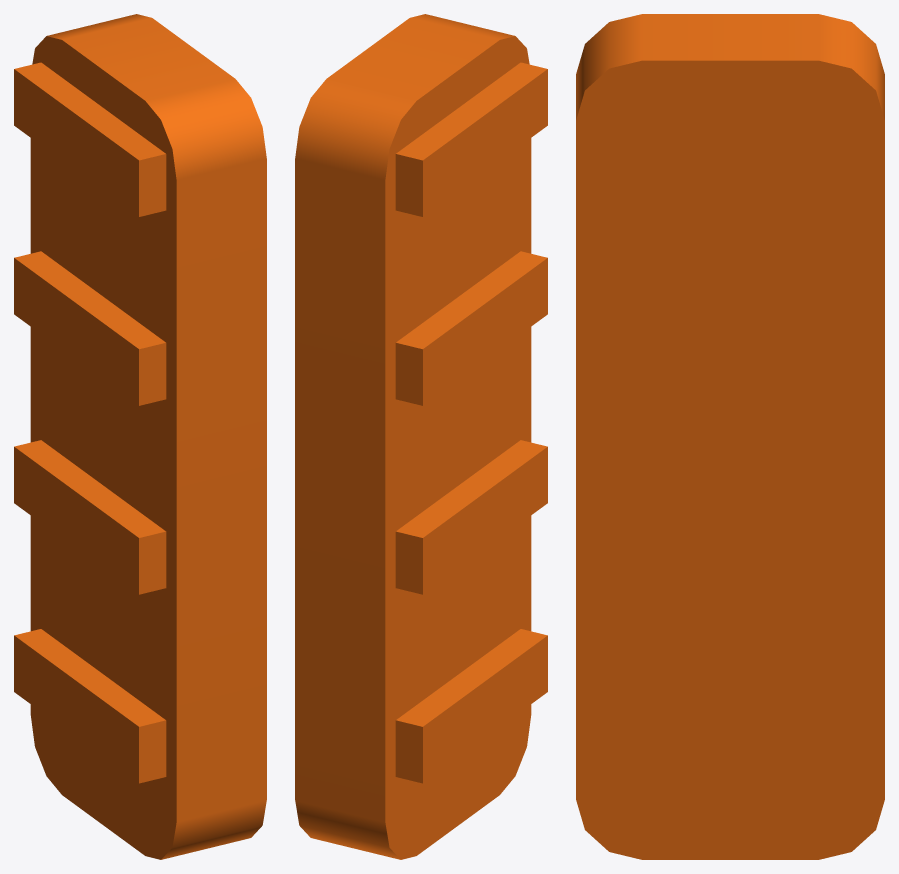
Rendered from WalkieTalkie_PTT.obj.
The picture shows the model from 3 angles, left to right: view 1: azimuth 30°, elevation 25°; view 2: azimuth 150°, elevation 25°; view 3: azimuth 270°, elevation 25°; orthographic projection. The views are drawn at different scales.
Parts seen in each view (by area): view 1: Walkie_PTT; view 2: Walkie_PTT; view 3: Walkie_PTT.
Part boxes in pixels (x1=…): Walkie_PTT: x1=14, y1=14, x2=266, y2=859; Walkie_PTT: x1=295, y1=14, x2=547, y2=859; Walkie_PTT: x1=576, y1=14, x2=884, y2=859.
Size of the model in its own units: 0.0065 by 0.04 by 0.014.
